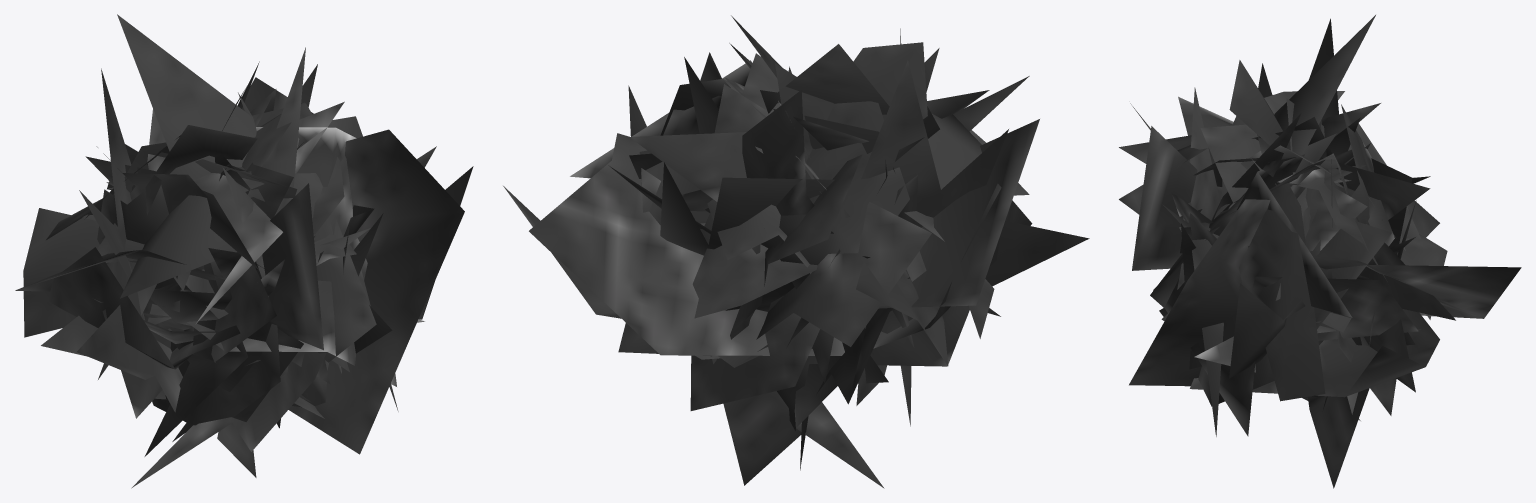
Rendered from stone-chunks.glb.
3 views of the same model, side by side, from view 1: azimuth 30°, elevation 25°; view 2: azimuth 150°, elevation 25°; view 3: azimuth 270°, elevation 25° (orthographic). The views are drawn at different scales.
Visible parts, largest first — view 1: chunk_04, chunk_16, chunk_01, chunk_08, chunk_00, chunk_22, chunk_27, chunk_12, chunk_15, chunk_31, chunk_19, chunk_25 (+17 smaller); view 2: chunk_22, chunk_00, chunk_09, chunk_29, chunk_01, chunk_25, chunk_19, chunk_16, chunk_03, chunk_02, chunk_20, chunk_04 (+13 smaller); view 3: chunk_08, chunk_04, chunk_16, chunk_12, chunk_27, chunk_01, chunk_00, chunk_22, chunk_11, chunk_18, chunk_09, chunk_29 (+14 smaller).
Boxes of the visible parts, x1,y1,x2,y2 form: chunk_04: (101, 129, 464, 488); chunk_16: (97, 14, 329, 407); chunk_01: (98, 164, 282, 477); chunk_08: (23, 116, 396, 386); chunk_00: (77, 68, 473, 412); chunk_22: (33, 77, 313, 369); chunk_27: (215, 86, 323, 350); chunk_12: (85, 146, 436, 418); chunk_15: (172, 173, 376, 441); chunk_31: (144, 162, 293, 456); chunk_19: (102, 125, 257, 418); chunk_25: (84, 135, 383, 451); chunk_22: (529, 133, 1032, 355); chunk_00: (628, 60, 1089, 311); chunk_09: (641, 76, 1039, 359); chunk_29: (756, 202, 931, 346); chunk_01: (618, 113, 1029, 485); chunk_25: (761, 101, 909, 289); chunk_19: (777, 42, 969, 430); chunk_16: (629, 44, 917, 404); chunk_03: (690, 313, 819, 410); chunk_02: (692, 236, 994, 338); chunk_20: (742, 90, 814, 215); chunk_04: (700, 52, 894, 488); chunk_08: (1153, 143, 1430, 436); chunk_04: (1129, 118, 1322, 400); chunk_16: (1198, 15, 1391, 406); chunk_12: (1119, 135, 1439, 397); chunk_27: (1132, 117, 1382, 270); chunk_01: (1177, 145, 1415, 488); chunk_00: (1229, 18, 1416, 378); chunk_22: (1313, 256, 1521, 318); chunk_11: (1217, 91, 1420, 340); chunk_18: (1237, 117, 1360, 317); chunk_09: (1130, 96, 1455, 346); chunk_29: (1161, 124, 1439, 321).
Size of the model in its own units: 0.0685 by 0.0668 by 0.0575.
1 material, 1 textured.
